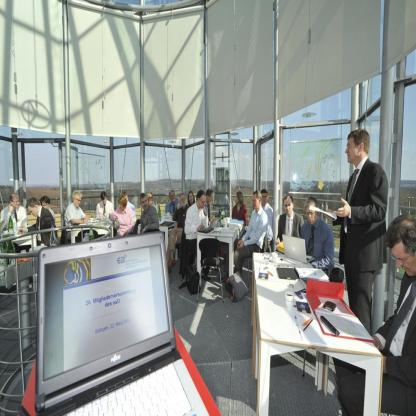board: (19, 236, 204, 416), (284, 234, 314, 265), (196, 217, 221, 232)
